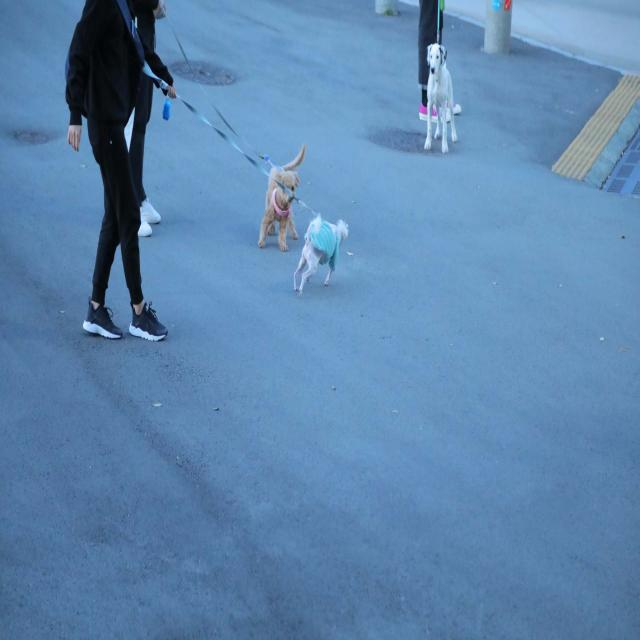Leashed_Dog: (130, 47, 350, 300), (149, 0, 307, 252), (422, 0, 460, 154)
